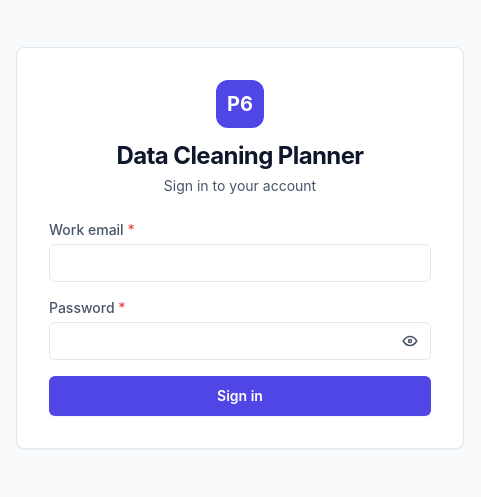
Scenario: LoginPage sign-in › shows the canonical error for a problem+json 401
Type "engineer@example.com" into the field labelled "Work email *" at coordinates (240, 263), box [49, 244, 431, 282]
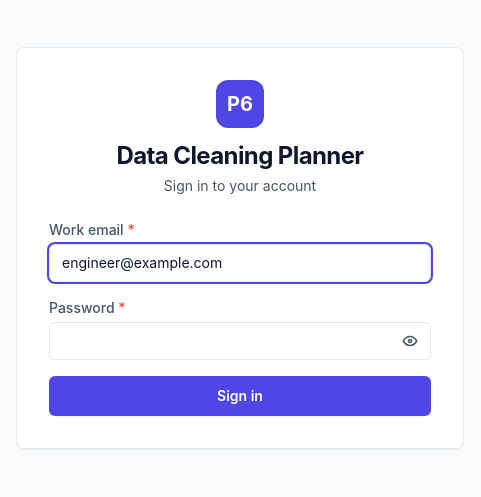
Type "not-my-password!" into the password field labelled "Password *" at coordinates (240, 341), box [49, 322, 431, 360]
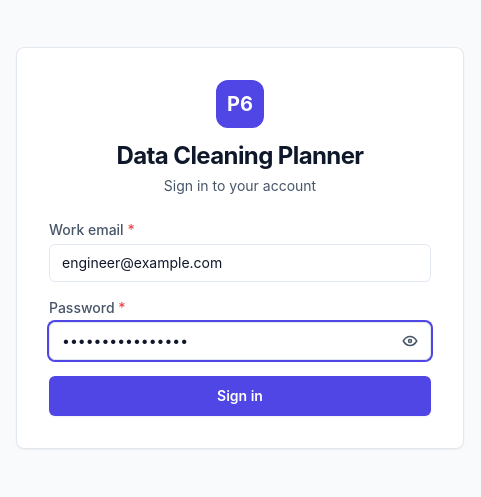
Click the button "Sign in" at coordinates (240, 396), box [49, 376, 431, 416]
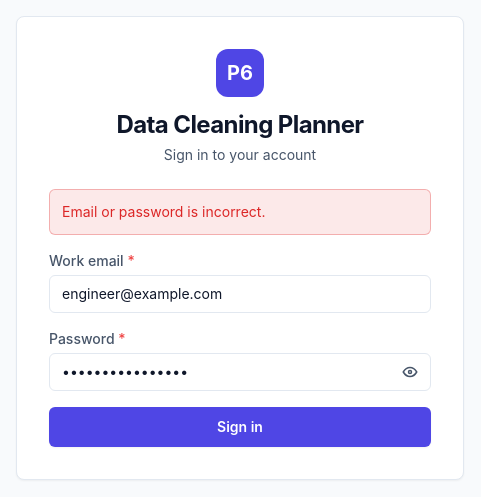
Check: the message reads "Email or password is incorrect.", box [62, 203, 265, 220]
